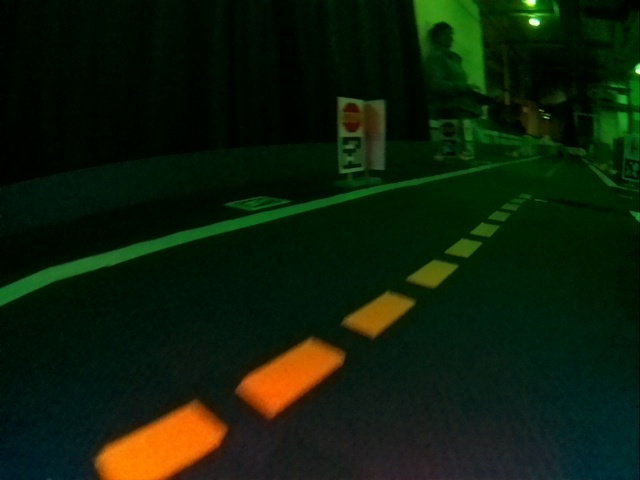QR code: (228, 195, 288, 209), (340, 136, 361, 170)
Stop sign: (341, 100, 362, 132)
